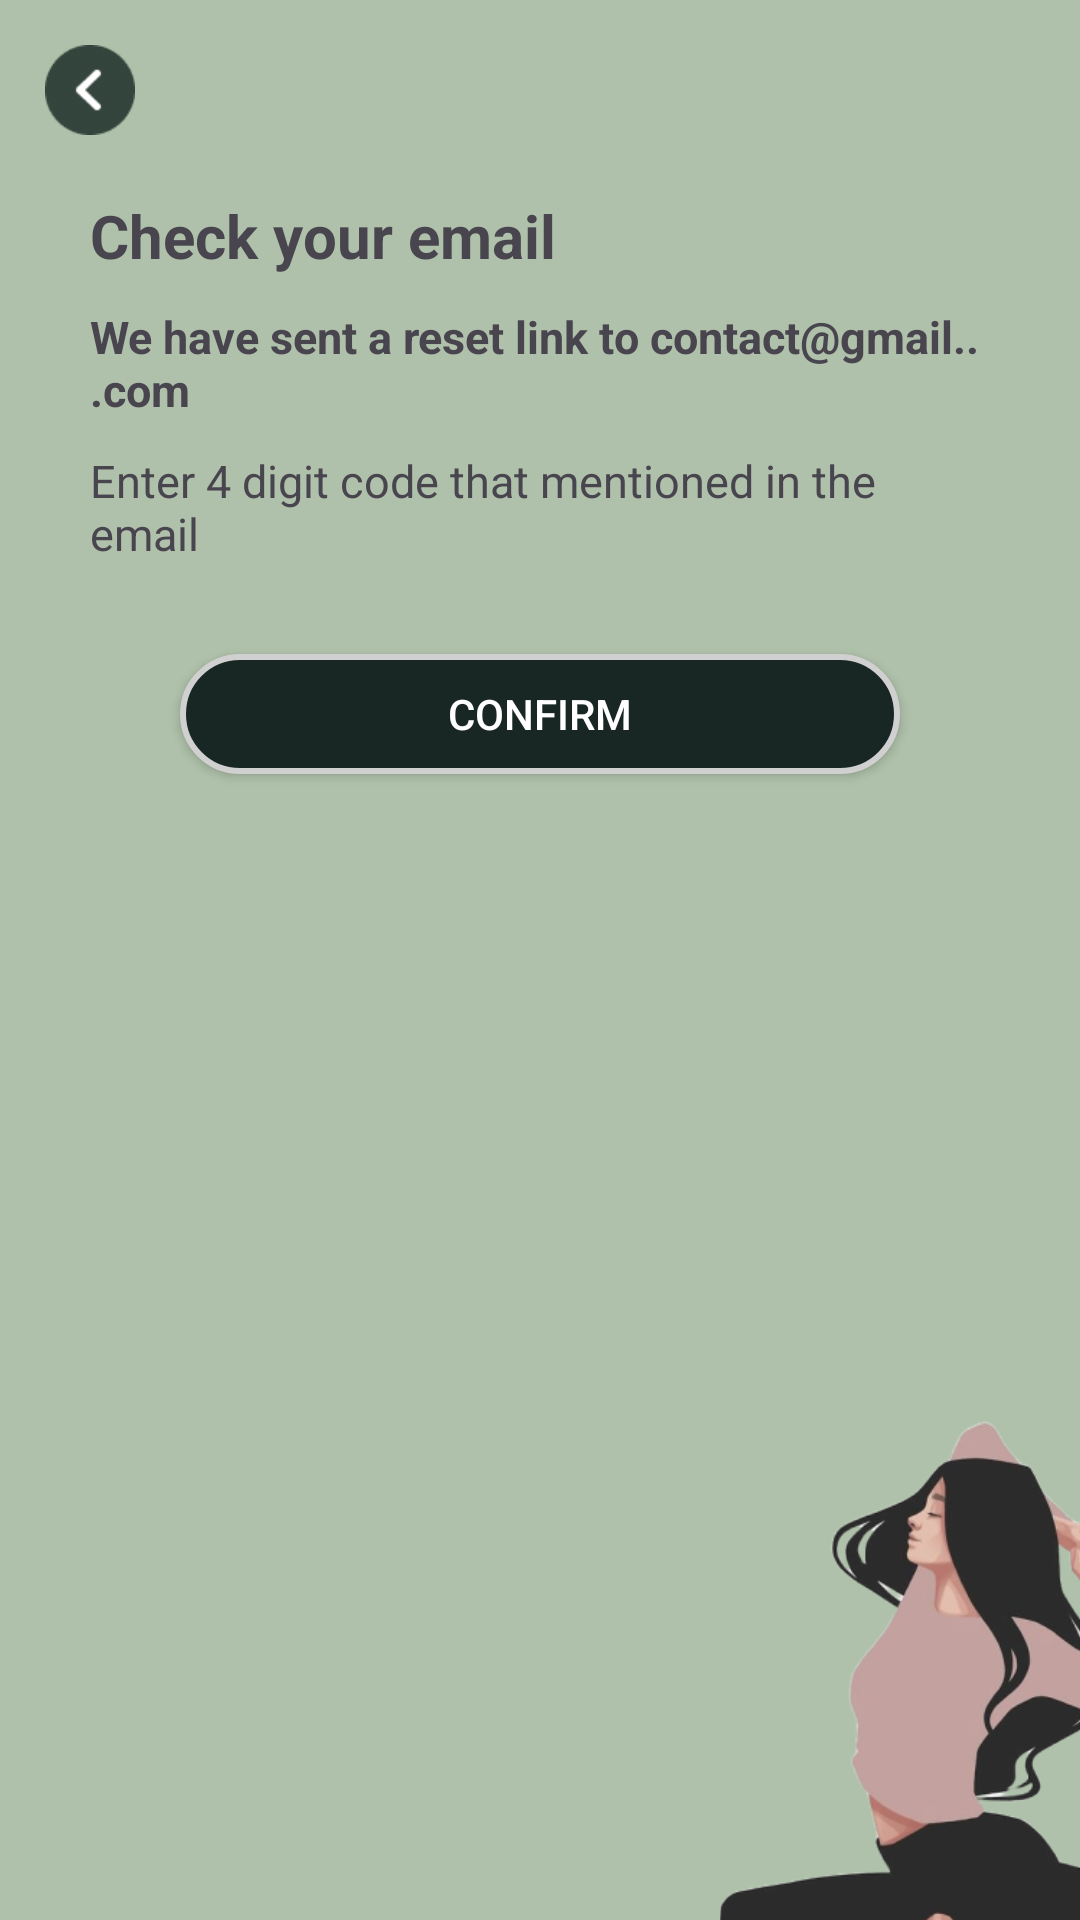

Named icons in this screenshot (1080px×1920px) and their bounding boxes, region(x1, y1, x2, y2):
goback: region(45, 45, 135, 135)
